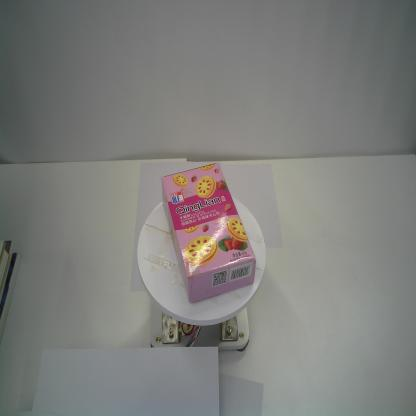Dessert: (160, 161, 257, 304)
